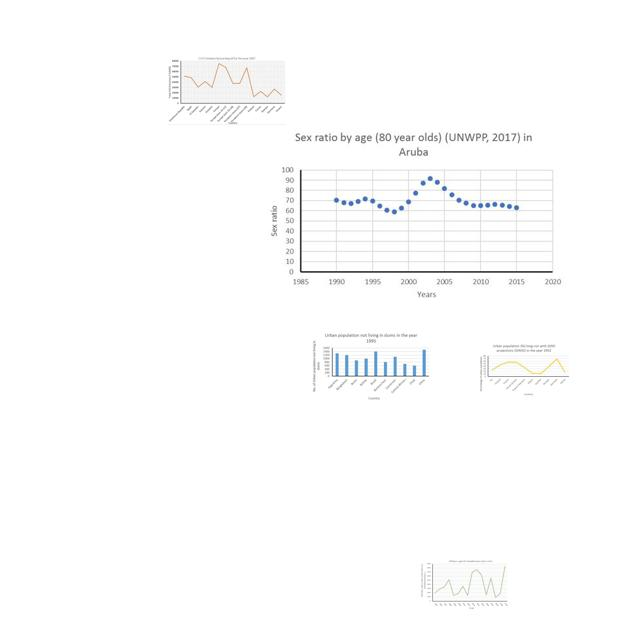Graph: (262, 126, 567, 305), (310, 330, 431, 404), (168, 56, 286, 125), (478, 343, 570, 397), (420, 559, 509, 610)
